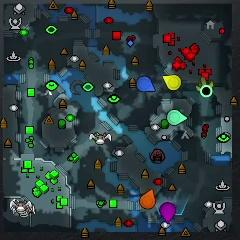p1: (136, 76, 155, 92)
p2: (167, 109, 187, 126)
p2Clone: (200, 85, 212, 96)
p3: (160, 202, 176, 222)
p4: (162, 74, 181, 90)
p5: (139, 190, 155, 209)
x2: (196, 76, 215, 92)
